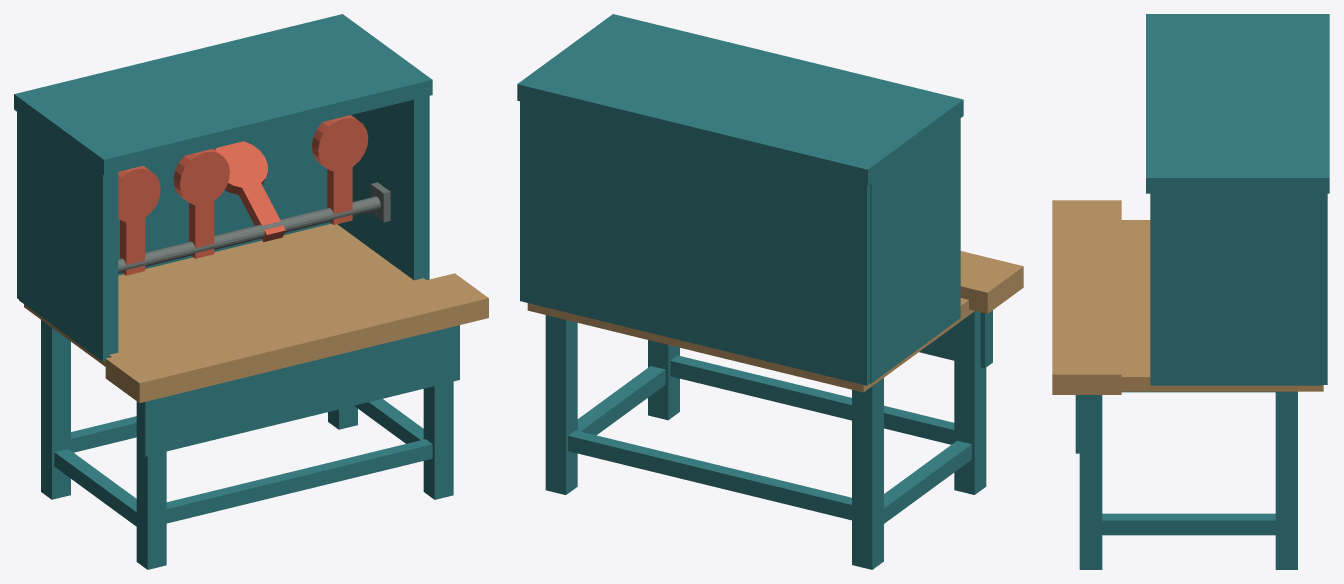
The picture shows the model from 3 angles, left to right: view 1: azimuth 30°, elevation 25°; view 2: azimuth 150°, elevation 25°; view 3: azimuth 270°, elevation 25°; orthographic projection. The views are drawn at different scales.
Visible parts, largest first — view 1: WholeReceivingTop, WholeOpenReceivingShelf, WholeForwardBarrierCounter, WholeReceivingSideL, WholeFrontBarrierApron, WholeReceivingSideR, WholeTallReceivingBack, WholeLowerCrossRailF, WholeGroundLegLB, WholeIndependentThickPaddle1, WholeIndependentThickPaddle3, WholeGroundLegLF (+7 smaller); view 2: WholeTallReceivingBack, WholeReceivingTop, WholeReceivingSideL, WholeLowerCrossRailB, WholeLowerCrossRailF, WholeGroundLegLB, WholeGroundLegRB, WholeGroundLegLF, WholeOpenReceivingShelf, WholeForwardBarrierCounter, WholeLowerSideRailL, WholeLowerSideRailR (+2 smaller); view 3: WholeReceivingSideR, WholeReceivingTop, WholeForwardBarrierCounter, WholeOpenReceivingShelf, WholeGroundLegRB, WholeLowerSideRailR, WholeGroundLegRF, WholeTallReceivingBack, WholeFrontBarrierApron.
Boxes of the visible parts, x1,y1,x2,y2 form: WholeReceivingTop: (14,14,432,175); WholeOpenReceivingShelf: (24,223,425,366); WholeForwardBarrierCounter: (105,273,488,403); WholeReceivingSideL: (19,113,118,361); WholeFrontBarrierApron: (138,325,459,456); WholeReceivingSideR: (337,96,429,280); WholeTallReceivingBack: (17,112,331,299); WholeLowerCrossRailF: (166,439,432,523); WholeGroundLegLB: (41,320,70,499); WholeIndependentThickPaddle1: (173,149,229,258); WholeIndependentThickPaddle3: (312,115,368,224); WholeGroundLegLF: (136,401,166,569); WholeTallReceivingBack: (520,101,870,385); WholeReceivingTop: (517,14,963,185); WholeReceivingSideL: (870,118,960,383); WholeLowerCrossRailB: (568,430,851,520); WholeLowerCrossRailF: (670,355,954,444); WholeGroundLegLB: (852,378,883,569); WholeGroundLegRB: (545,315,577,494); WholeGroundLegLF: (954,311,986,494); WholeOpenReceivingShelf: (527,298,974,392); WholeForwardBarrierCounter: (960,251,1023,313); WholeLowerSideRailL: (884,440,971,523); WholeLowerSideRailR: (577,366,665,435); WholeReceivingSideR: (1150,193,1321,385); WholeReceivingTop: (1146,14,1329,193); WholeForwardBarrierCounter: (1052,200,1121,394); WholeOpenReceivingShelf: (1121,220,1323,391); WholeGroundLegRB: (1275,391,1297,569); WholeLowerSideRailR: (1102,513,1275,535); WholeGroundLegRF: (1079,395,1102,569); WholeTallReceivingBack: (1321,193,1327,384); WholeFrontBarrierApron: (1075,395,1090,453).
Size of the model in its own units: 2.02 by 2.15 by 1.36.
